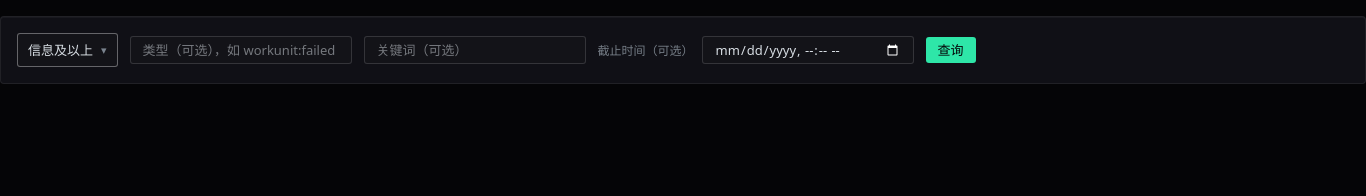
Test: EventSearchPanel › 查询透传 level/keyword 参数；结果渲染级别徽标与 payload 摘要
Click the button with aria-label "级别". click: (67, 50)
box: [17,33,118,67]
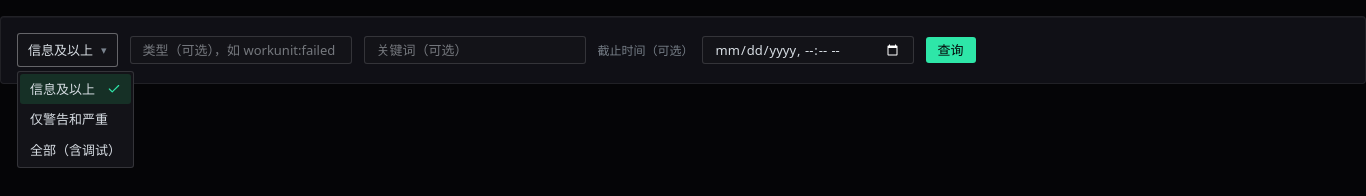
Click the option "仅警告和严重". click: (69, 119)
box: [30,110,108,128]
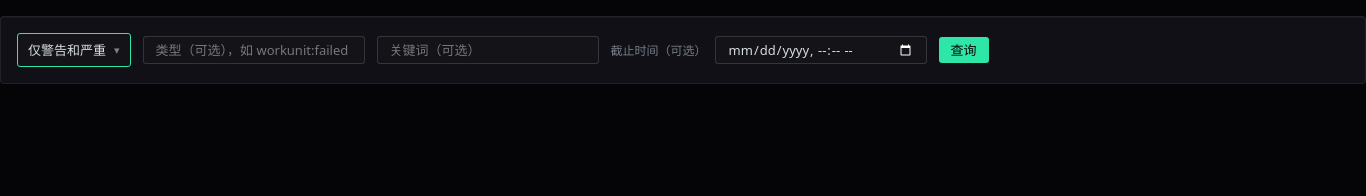
Type "boom" into the field with placeholder "关键词（可选）". click: (488, 50)
box: [376,36,598,64]
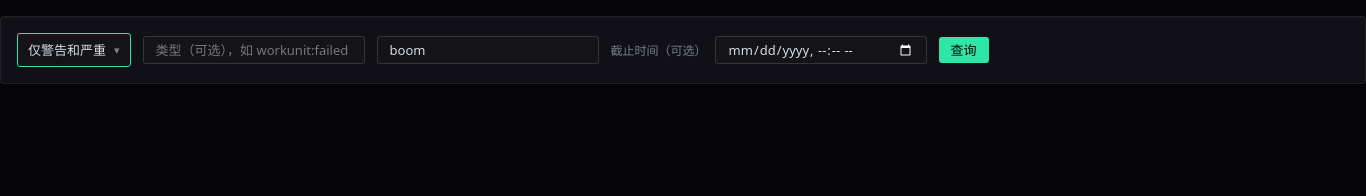
Click the button "查询". click: (964, 50)
box: [939,37,989,63]
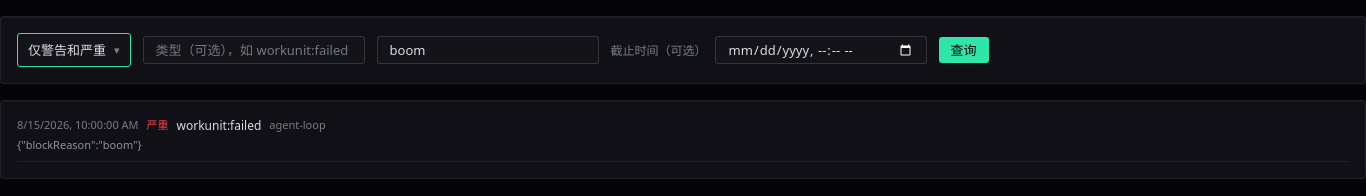
Now the text "workunit:failed" is shown, box [177,117,261,134]
Now the text "严重" is shown, box [147,118,169,133]
Now the text "{\"blockReason\":\"boom\"}" is shown, box [17,137,142,152]
